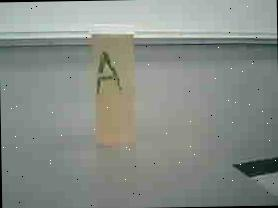Bottle A: (83, 18, 145, 150)
